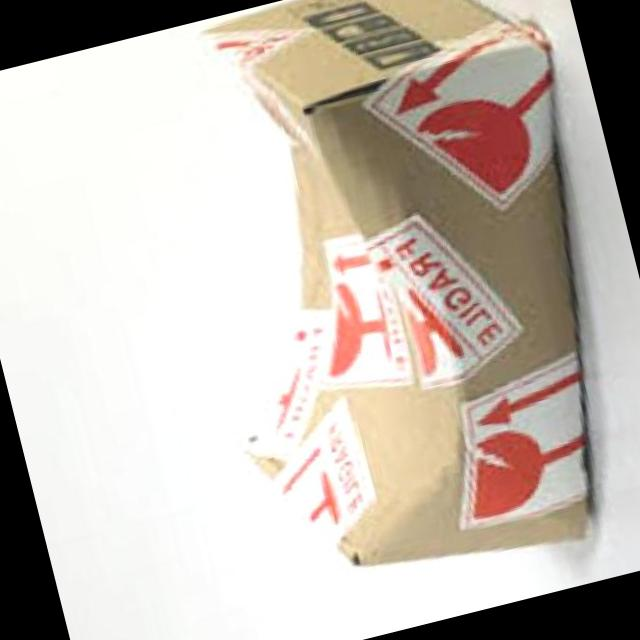crushed: (207, 29, 466, 563)
